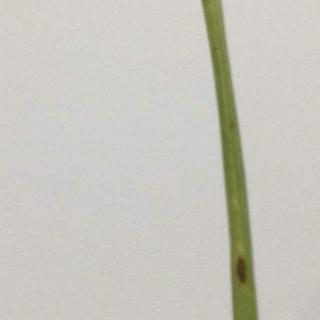Blast: (227, 225, 265, 312)
